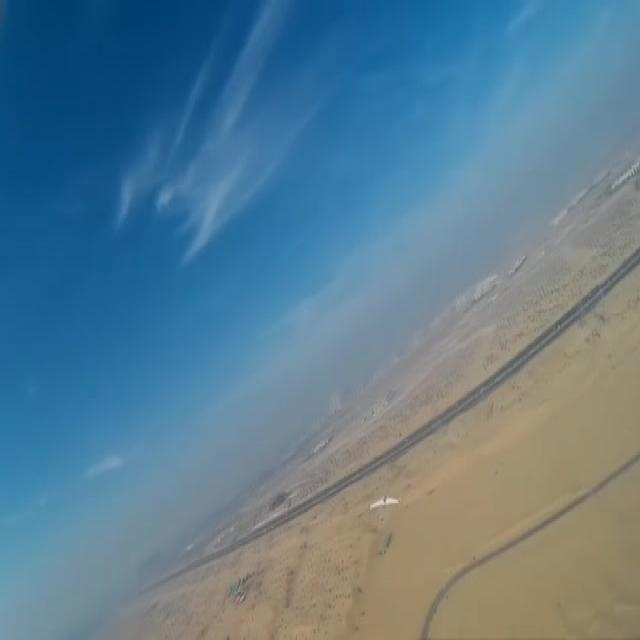iha: (369, 494, 400, 511)
